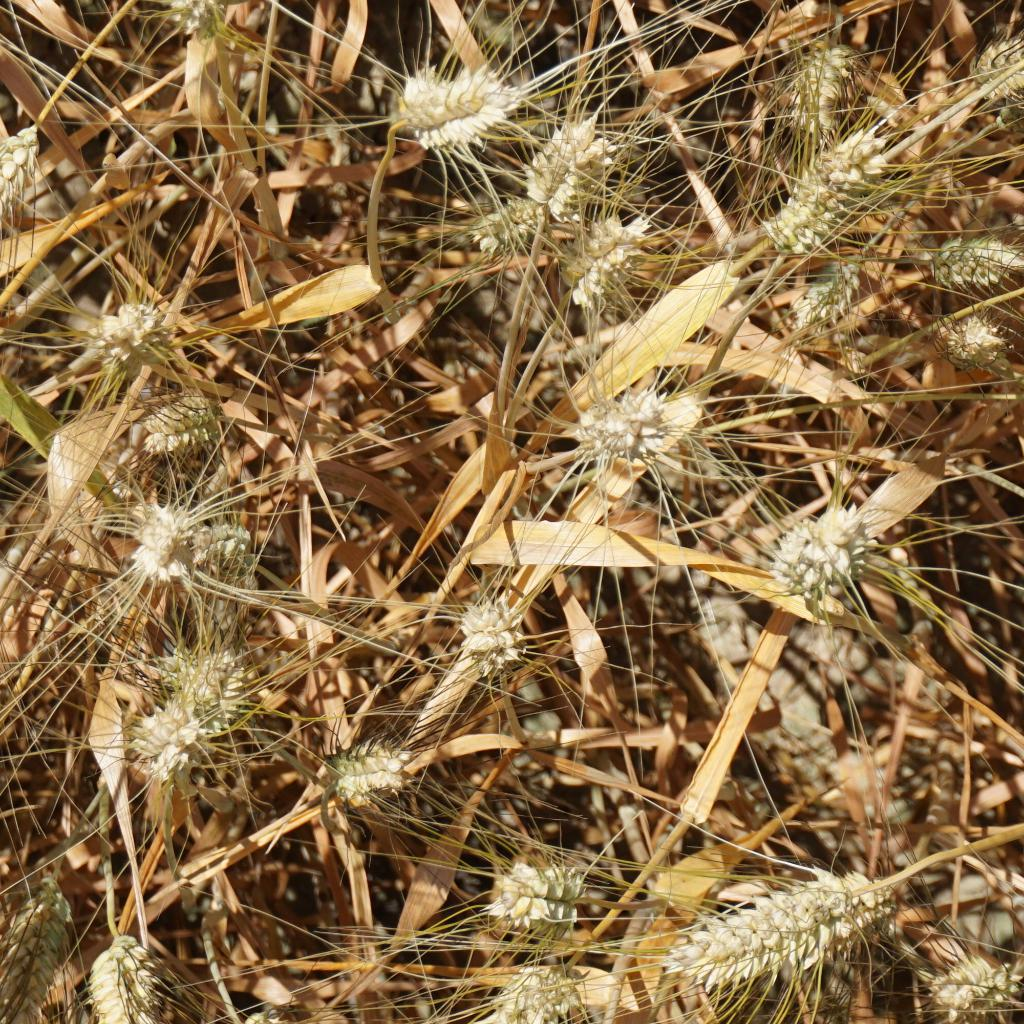0-0: (670, 873, 889, 971), (390, 52, 513, 150), (763, 494, 883, 591), (110, 492, 222, 591), (67, 272, 189, 361), (761, 134, 868, 235), (313, 730, 425, 813), (582, 387, 697, 459), (441, 588, 537, 673), (141, 382, 245, 460), (158, 649, 254, 733), (774, 34, 855, 132), (0, 129, 55, 268), (195, 531, 276, 622), (550, 218, 644, 296), (0, 903, 76, 999), (86, 934, 164, 1024), (504, 957, 604, 1024), (926, 941, 1024, 1009), (531, 103, 601, 198), (497, 855, 587, 924), (131, 689, 201, 777), (808, 259, 876, 349), (924, 214, 1011, 284), (934, 313, 1016, 371), (466, 195, 543, 248), (983, 20, 1024, 91), (161, 0, 259, 27)
